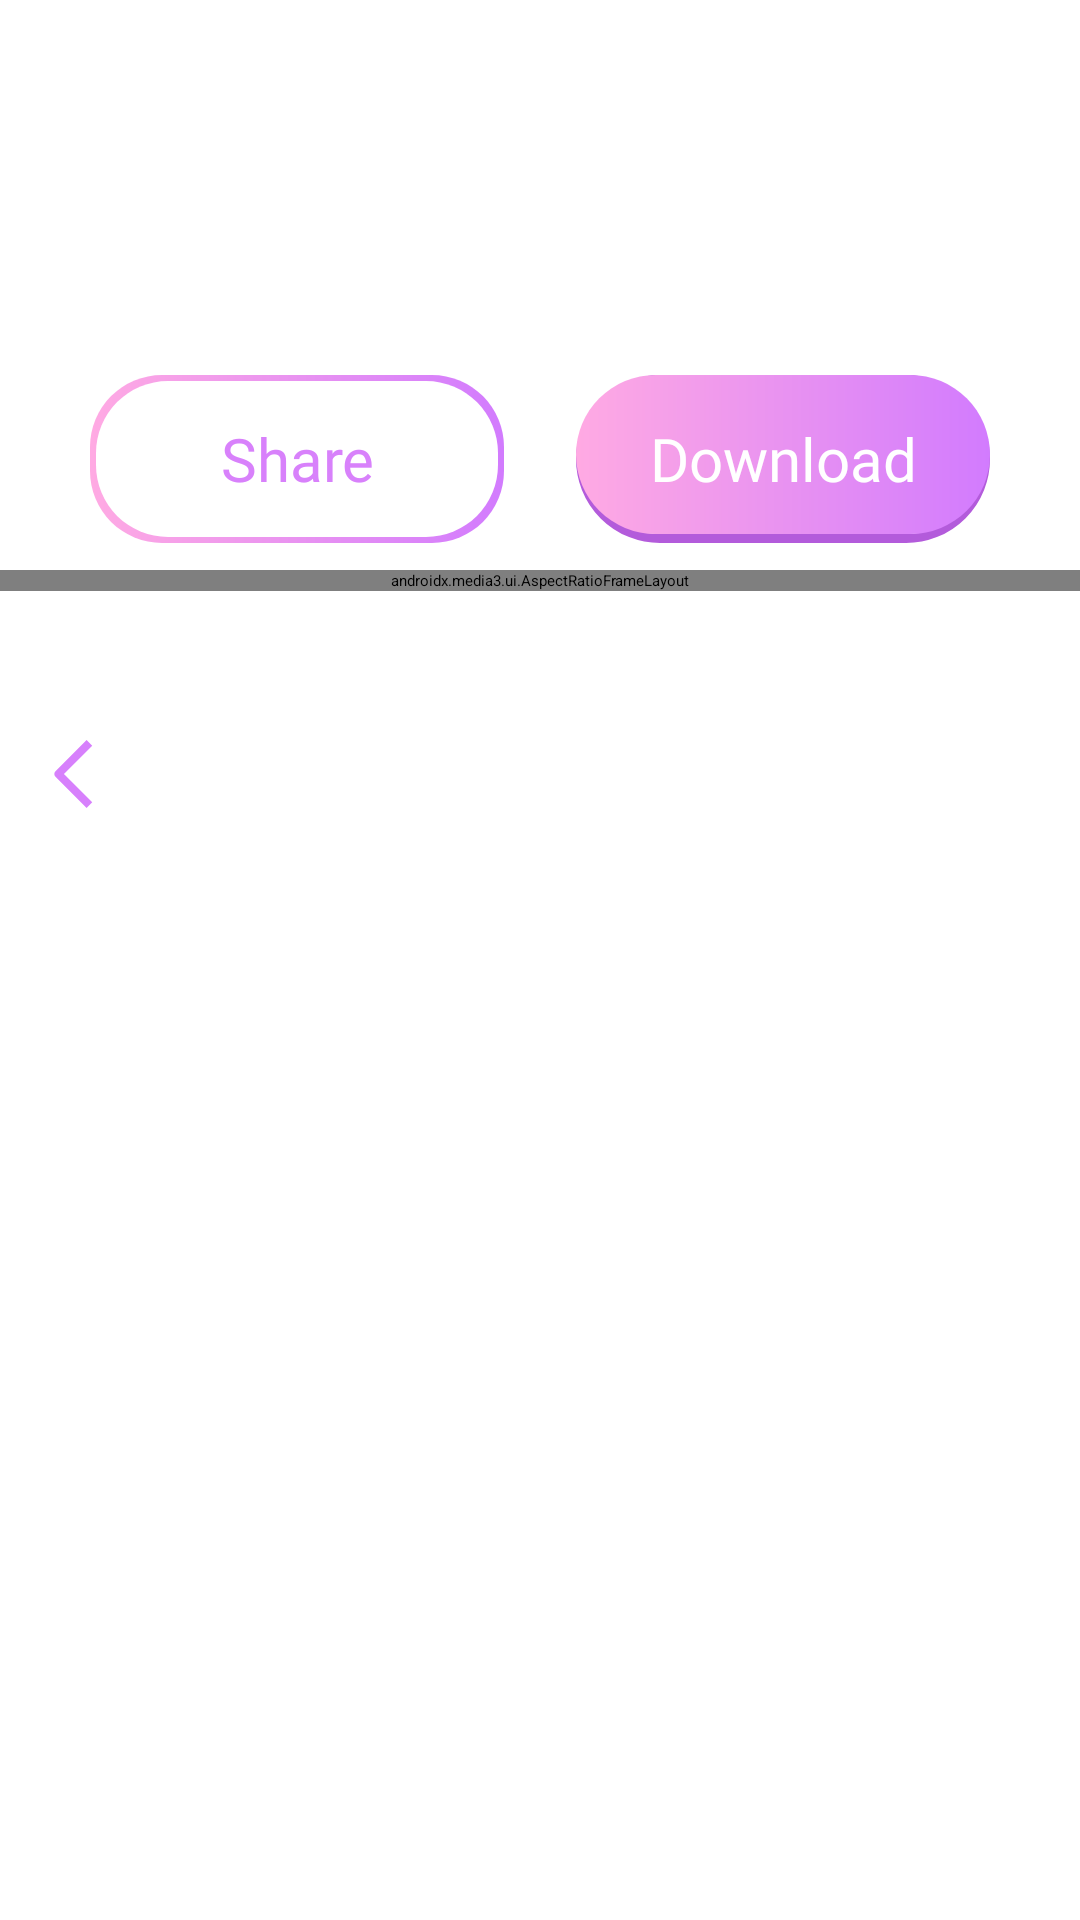

Where icons sit on this 1080*1920 app screen, as bbox=(x1, y1, x2, y2):
back: bbox=(54, 740, 92, 808)
